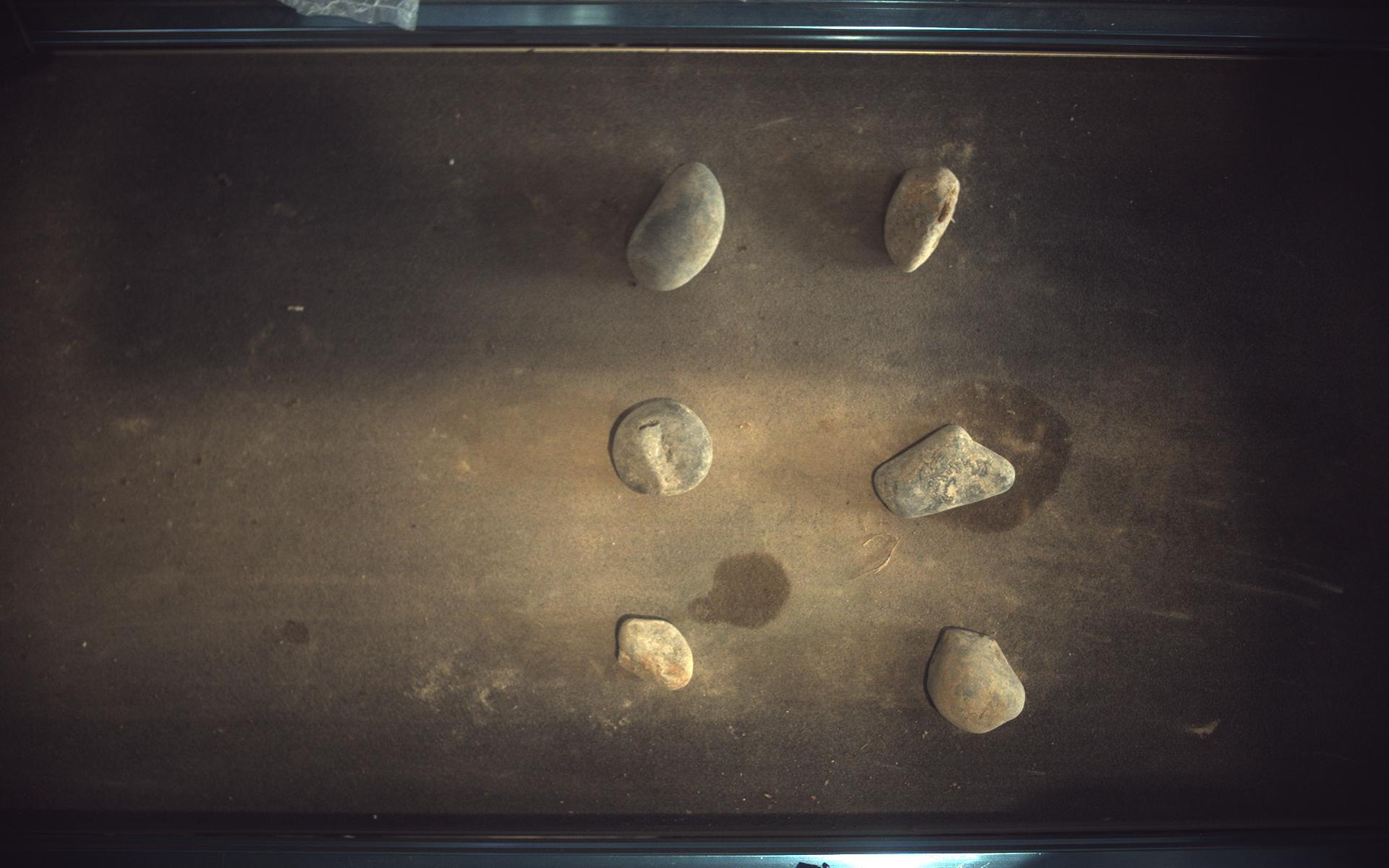stone: (875, 425, 1017, 519), (628, 161, 726, 291), (928, 629, 1027, 735), (612, 399, 713, 496), (886, 166, 962, 272), (616, 616, 694, 691)
